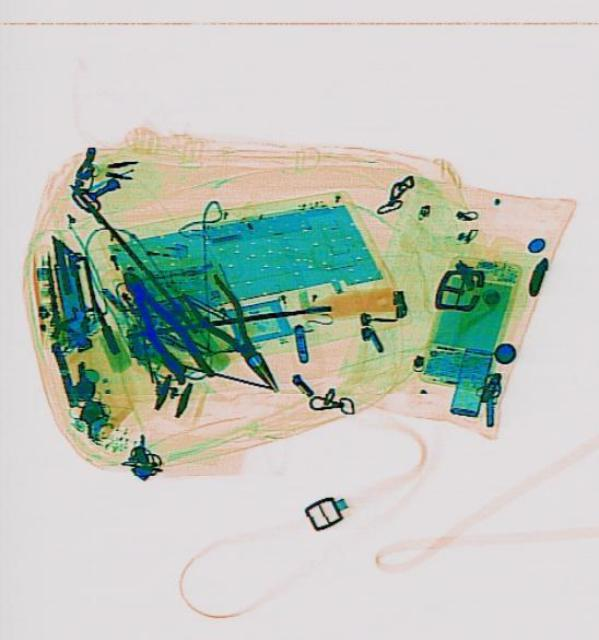Pliers: (176, 268, 295, 404), (109, 259, 215, 393)
